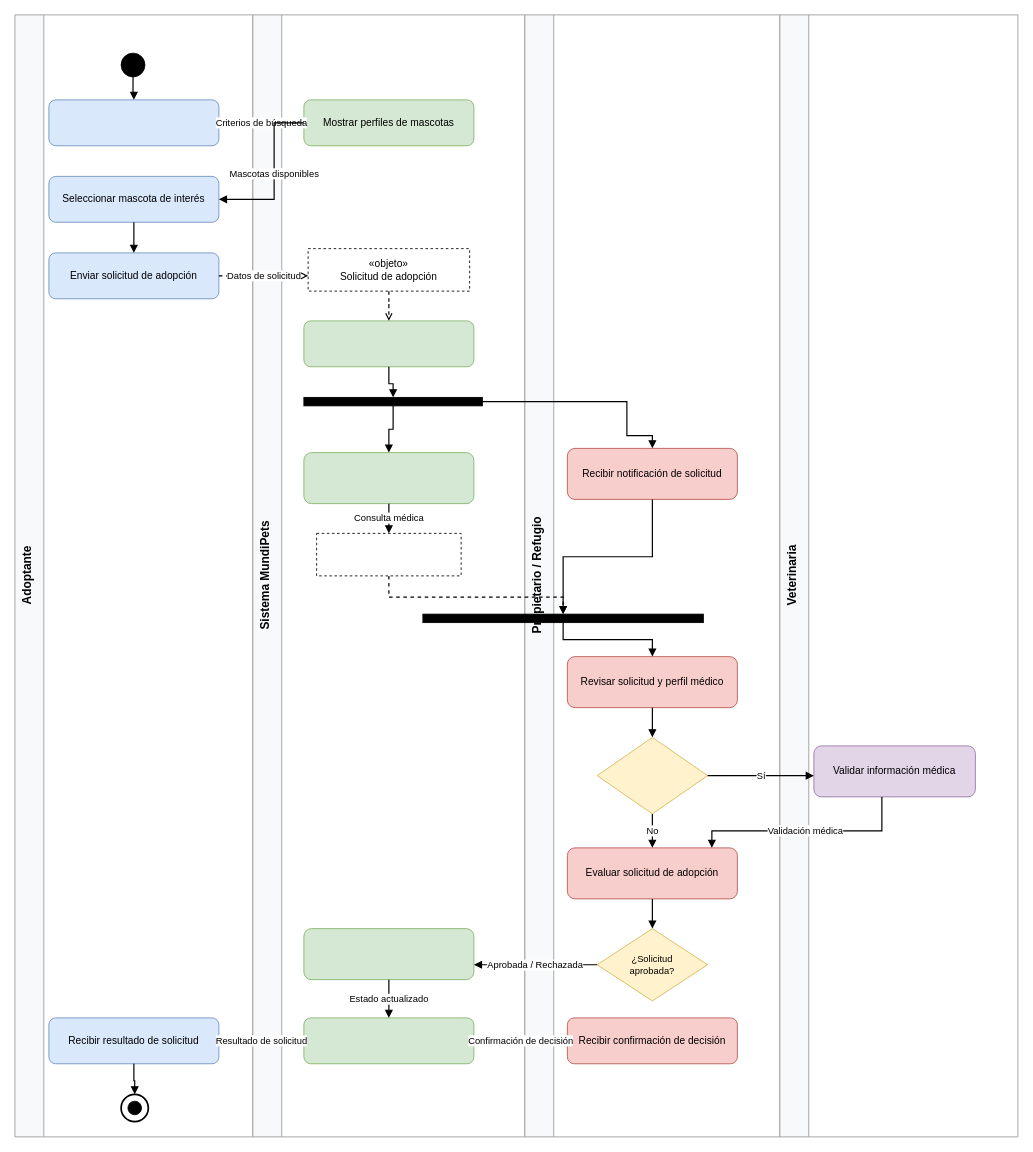
Image size: 1033x1152. Some labels were removed from this diagram. The shapes that lost their labels are listed below. From the top down, each one's centre as x and y in pixels, then its label:
pixel 133 122: Consultar mascotas disponibles
pixel 388 343: Registrar solicitud de adopción
pixel 388 478: Consultar perfil médico de la mascota
pixel 388 554: «objeto» Perfil médico
pixel 652 775: ¿Requiere validación médica?
pixel 388 954: Registrar decisión y actualizar estado
pixel 388 1040: Notificar resultado
